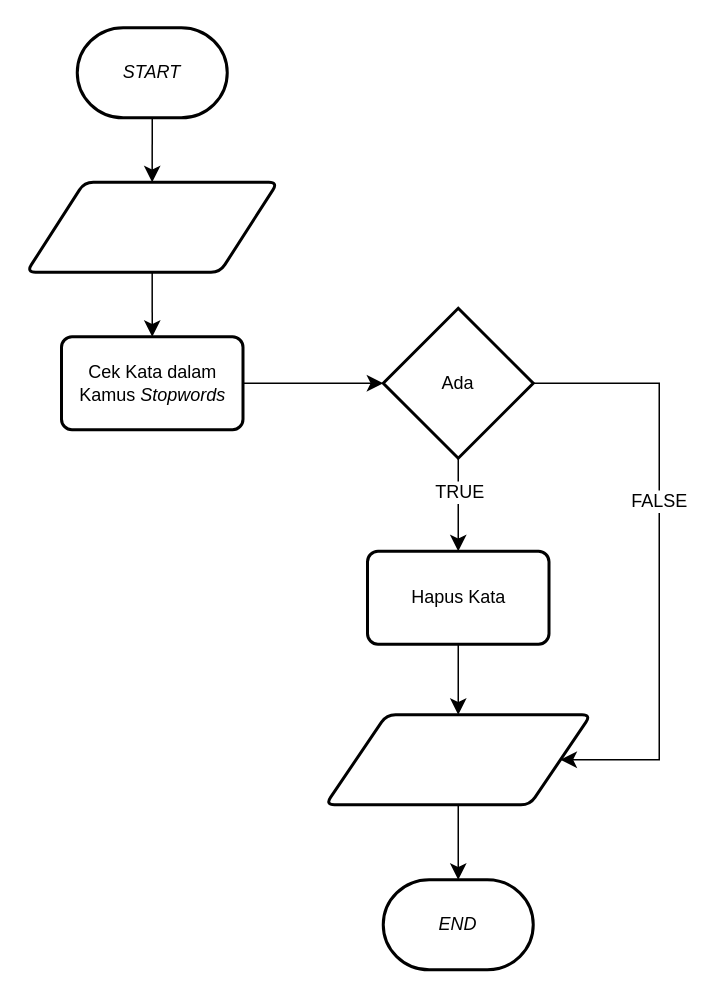
Some shapes in this 713 by 996 pixel diagram are drawn without their labels. The centre of each missing label's shape, as x and y in pixels:
Hasil Negation Handling: (x=151, y=226)
Hasil Stopwords Removal: (x=457, y=759)
